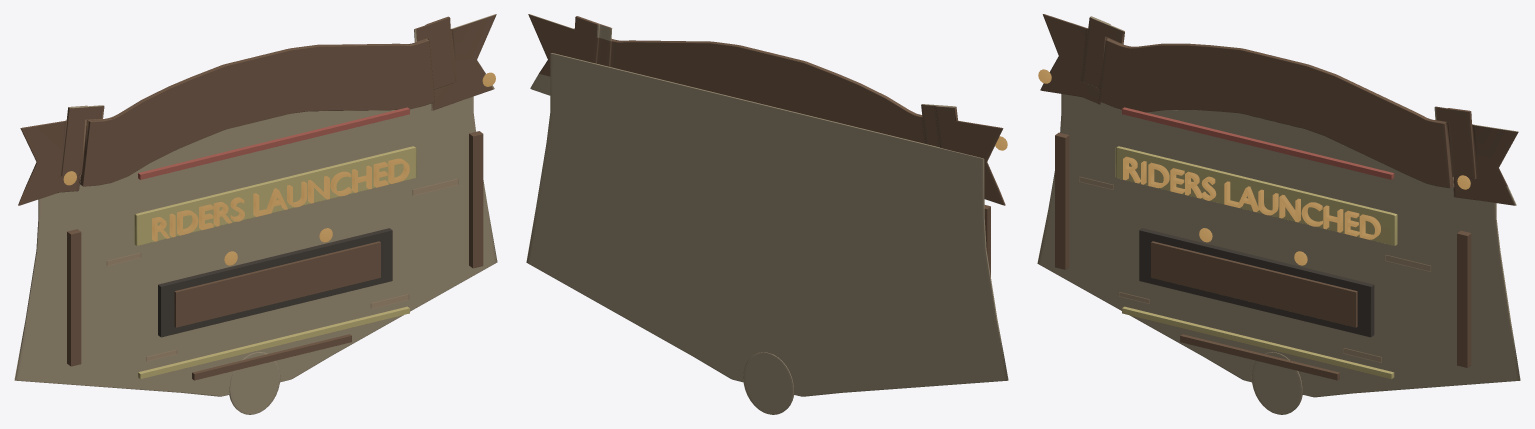
The model's file is riders_launched_scoreboard.glb.
3 views of the same model, side by side, from view 1: azimuth 30°, elevation 25°; view 2: azimuth 150°, elevation 25°; view 3: azimuth 330°, elevation 25° (orthographic).
Visible parts, largest first — view 1: scoreboard_backdrop_geo, scoreboard_counter_plate_inner_gold_geo, scoreboard_title_plaque_geo, scoreboard_counter_plate_geo, scoreboard_title_text, scoreboard_yellow_bottom_stripe_geo, scoreboard_red_top_stripe_geo, scoreboard_left_trim_geo, scoreboard_right_trim_geo, scoreboard_bottom_trim_geo; view 2: scoreboard_backdrop_geo; view 3: scoreboard_backdrop_geo, scoreboard_counter_plate_inner_gold_geo, scoreboard_title_plaque_geo, scoreboard_counter_plate_geo, scoreboard_title_text, scoreboard_red_top_stripe_geo, scoreboard_yellow_bottom_stripe_geo, scoreboard_left_trim_geo, scoreboard_right_trim_geo, scoreboard_bottom_trim_geo.
Boxes of the visible parts, x1,y1,x2,y2 form: scoreboard_backdrop_geo: (14,14,497,414); scoreboard_counter_plate_inner_gold_geo: (174,241,380,327); scoreboard_title_plaque_geo: (134,146,416,245); scoreboard_counter_plate_geo: (158,228,392,337); scoreboard_title_text: (152,158,409,241); scoreboard_yellow_bottom_stripe_geo: (138,306,409,379); scoreboard_red_top_stripe_geo: (138,107,409,179); scoreboard_left_trim_geo: (67,229,81,366); scoreboard_right_trim_geo: (469,131,483,268); scoreboard_bottom_trim_geo: (192,334,351,380); scoreboard_backdrop_geo: (526,14,1008,414); scoreboard_backdrop_geo: (1037,14,1520,414); scoreboard_counter_plate_inner_gold_geo: (1151,241,1357,327); scoreboard_title_plaque_geo: (1115,146,1397,245); scoreboard_counter_plate_geo: (1139,228,1374,337); scoreboard_title_text: (1123,156,1380,239); scoreboard_red_top_stripe_geo: (1122,107,1394,179); scoreboard_yellow_bottom_stripe_geo: (1122,306,1394,379); scoreboard_left_trim_geo: (1055,132,1069,269); scoreboard_right_trim_geo: (1457,230,1471,367); scoreboard_bottom_trim_geo: (1180,334,1339,380).
Bounding box in the file's own units: 2.54 × 1.8 × 0.2552.
